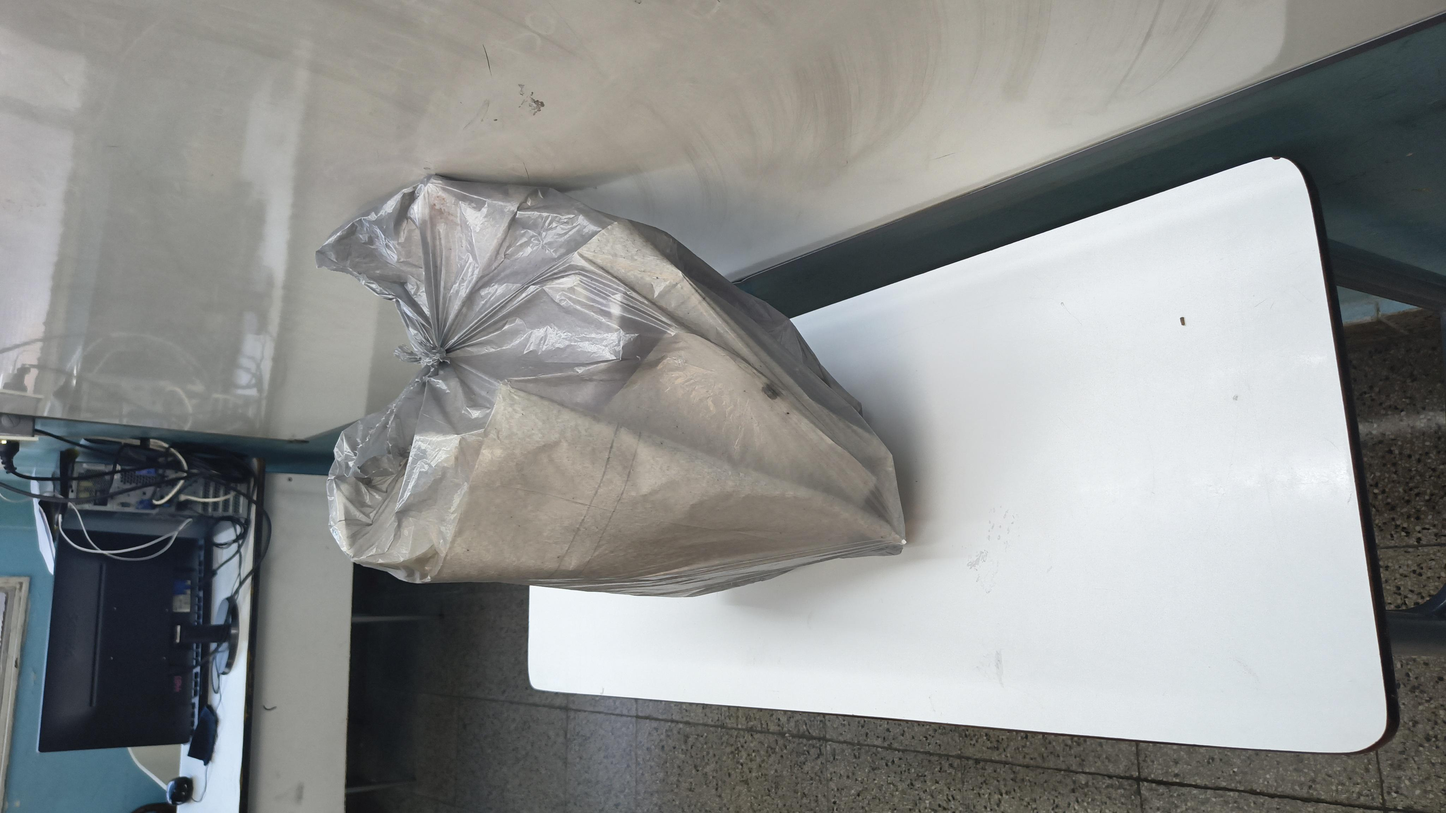Garbage: (289, 153, 1249, 542)
